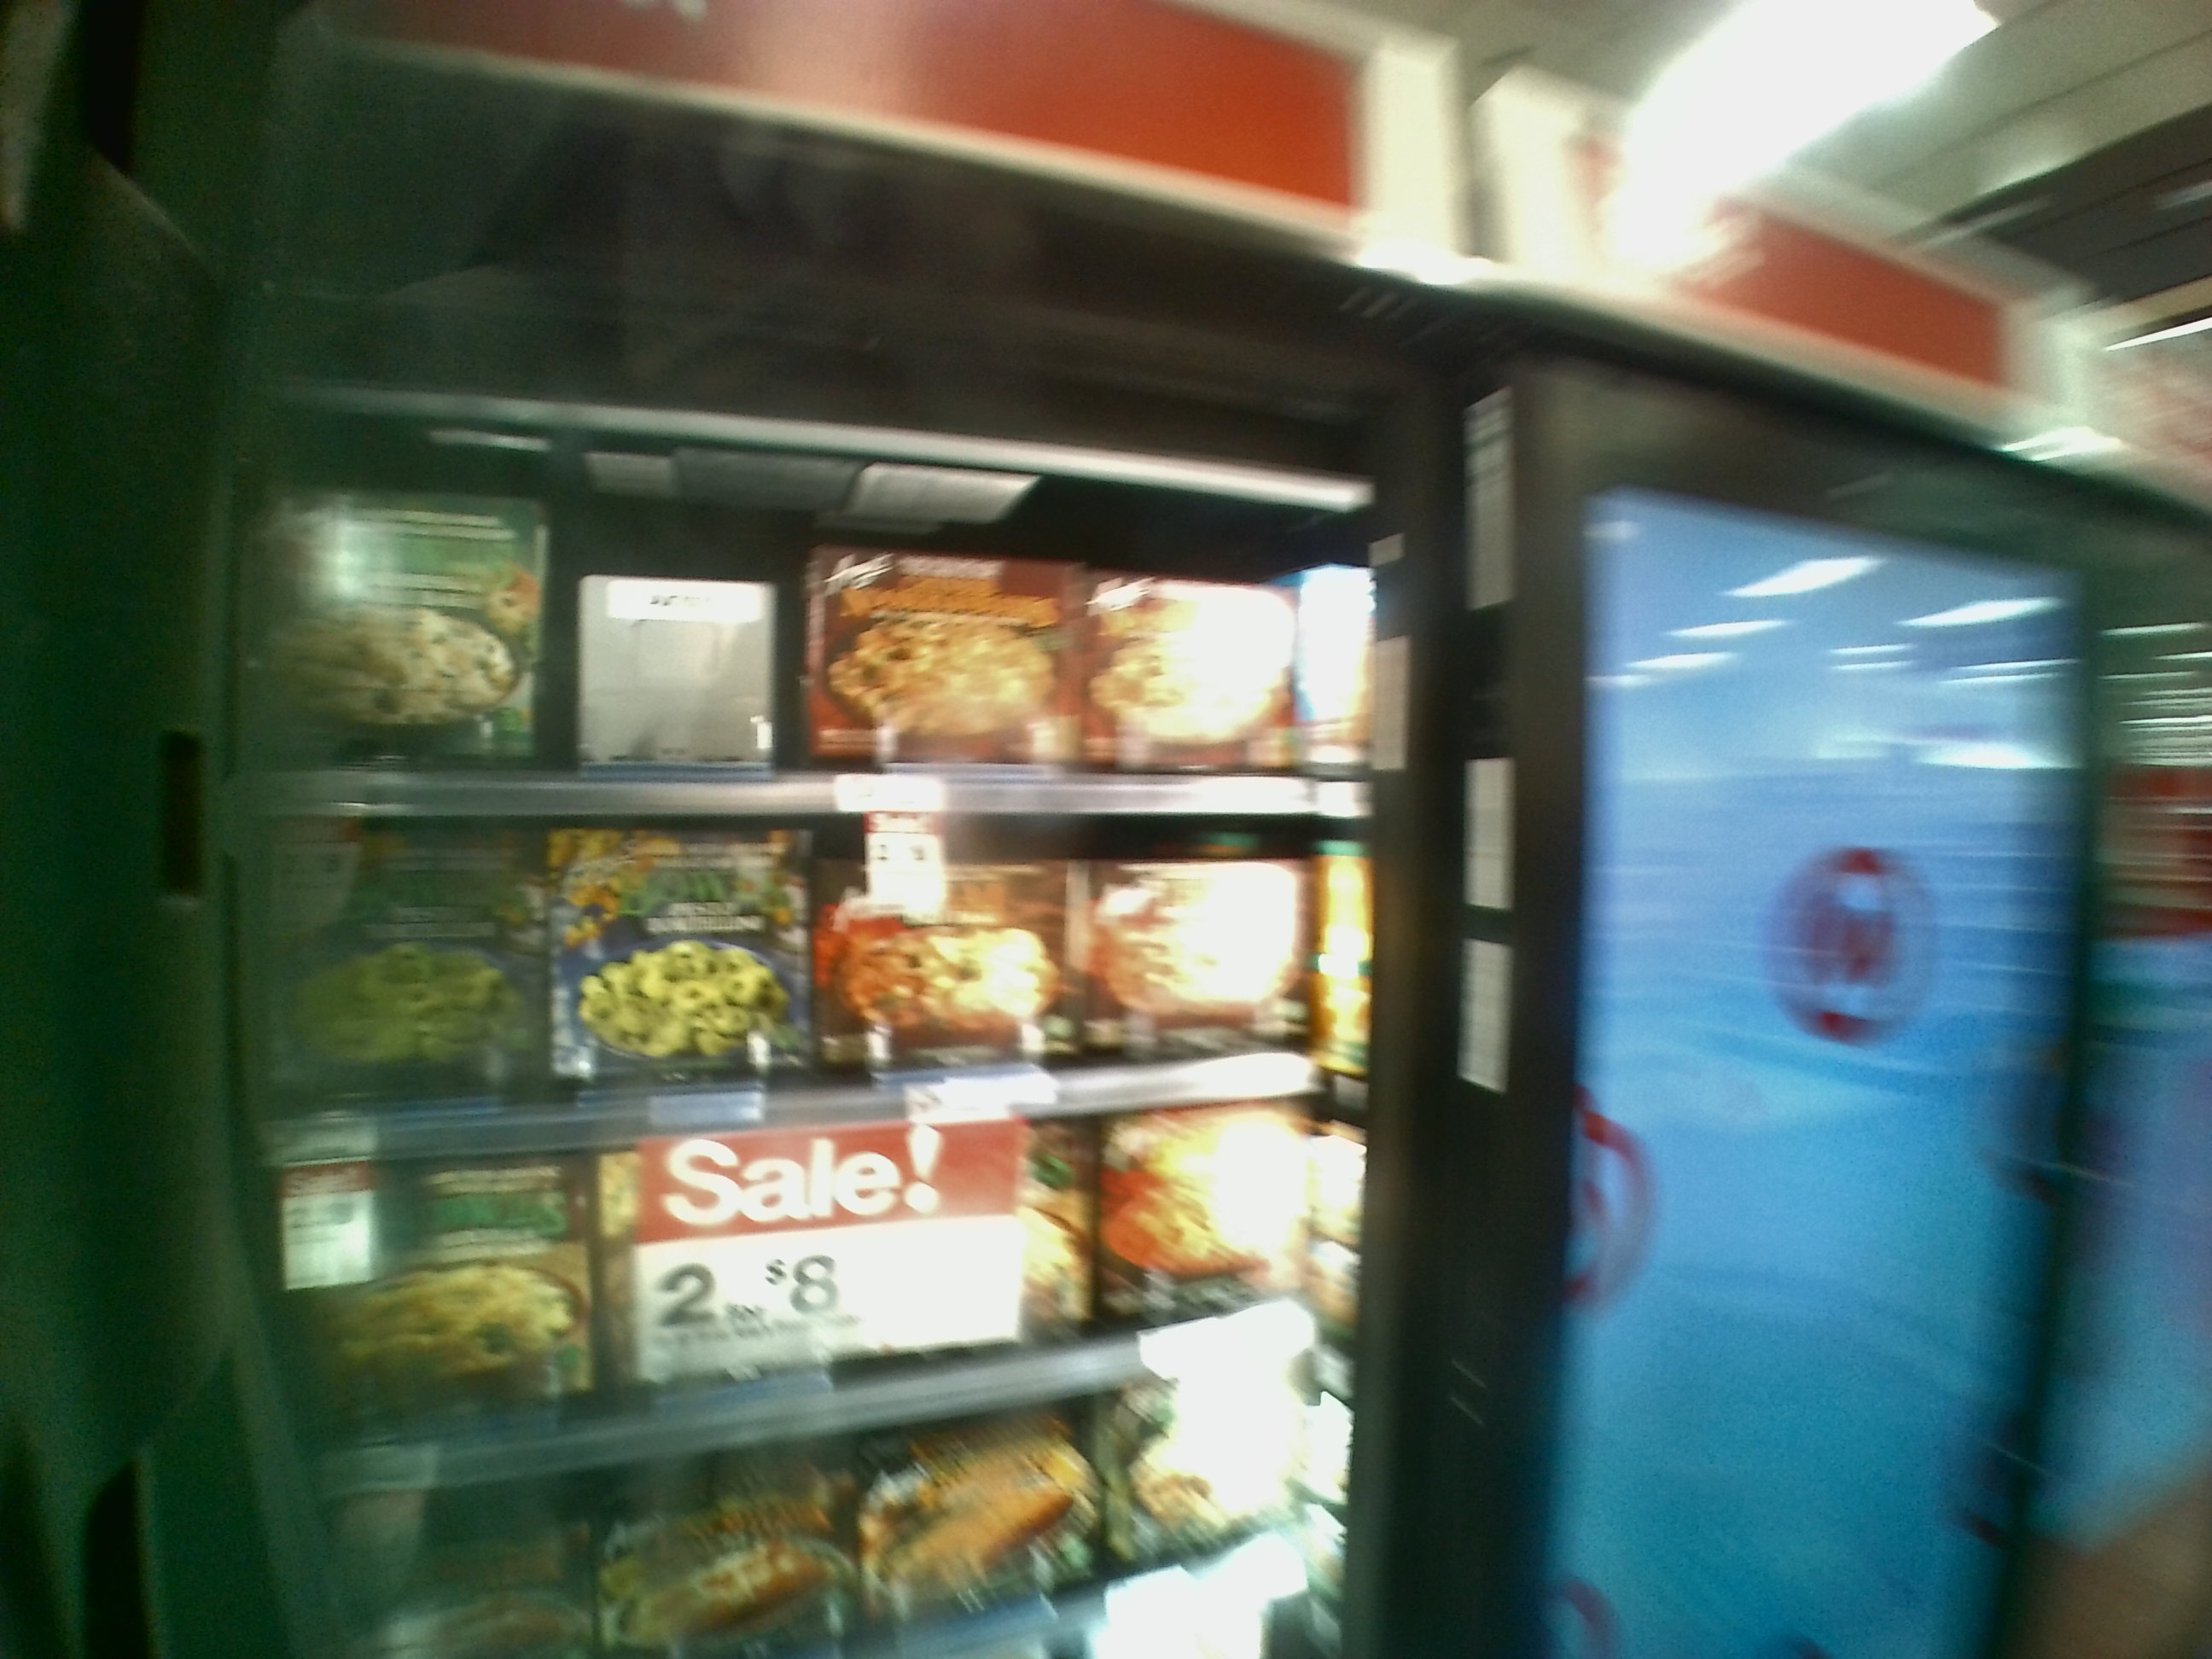shelf: (239, 455, 1385, 824), (247, 823, 1359, 1141), (289, 1110, 1352, 1438)
